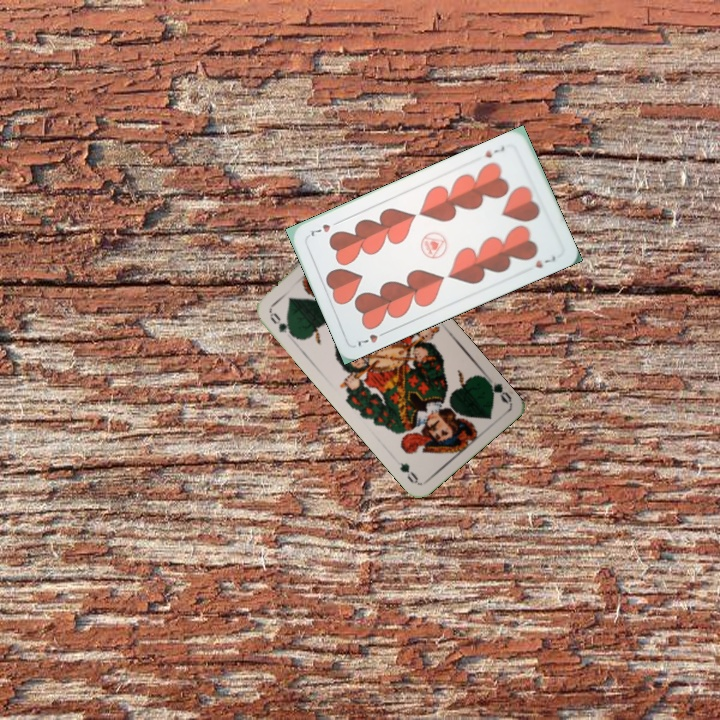GO: (480, 372, 514, 406), (265, 307, 298, 340)
H7: (352, 327, 391, 350), (481, 142, 507, 160)
